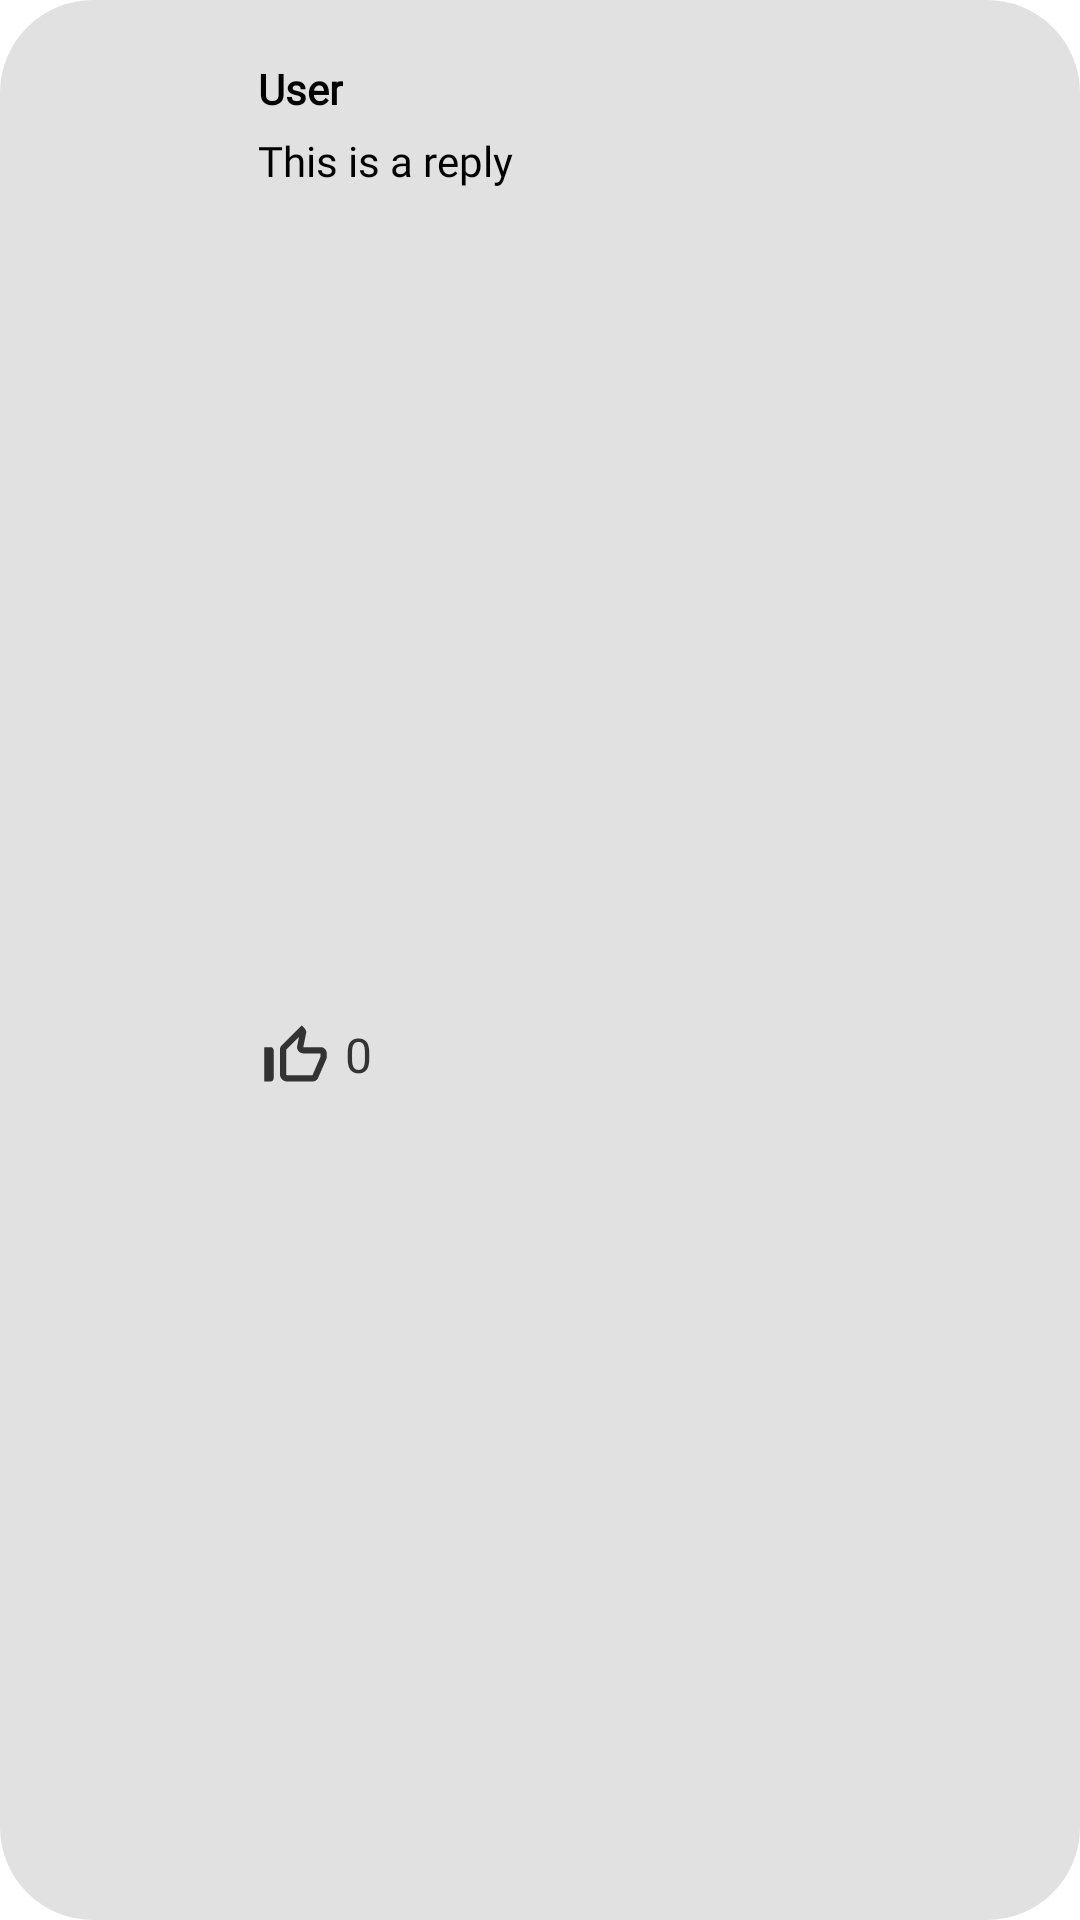

Named icons in this screenshot (1080×1920) and their bounding boxes, [x1=x1, y1=y1, x2=x2, y2=y2]:
thumb empty: [x1=264, y1=1025, x2=327, y2=1082]
